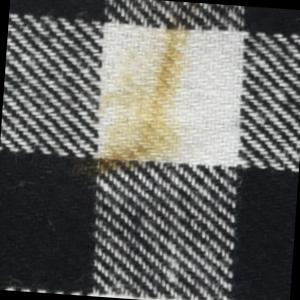Oil Stain: (67, 1, 204, 186)
